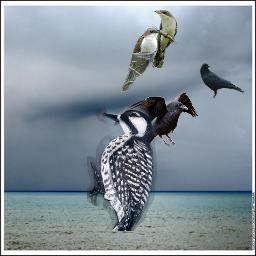Crow: (113, 92, 199, 148), (200, 62, 245, 98)
Cuckoo: (120, 27, 160, 92), (152, 10, 177, 68)
Woodpecker: (87, 105, 157, 231)
